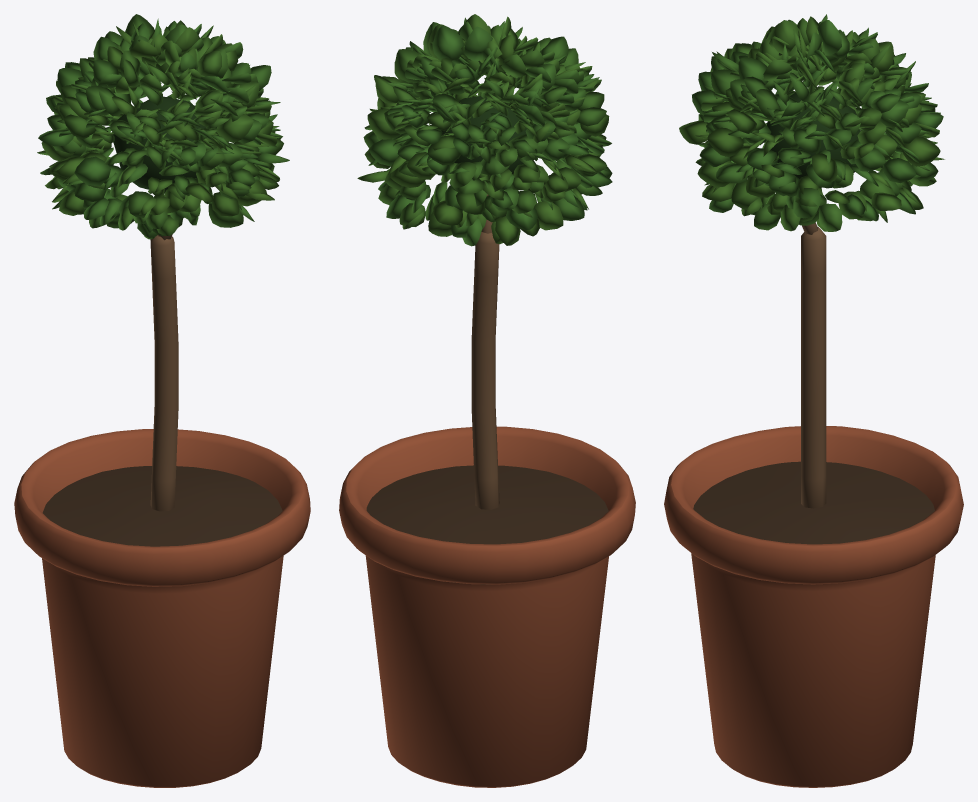
The model's file is pot_boxball.glb.
3 renders of one model, left to right at view 1: azimuth 30°, elevation 25°; view 2: azimuth 150°, elevation 25°; view 3: azimuth 270°, elevation 25°, orthographic.
Visible parts, largest first — view 1: Sammel Putz, Sammel Pflanze, Sammel Holz, Sammel Blatt; view 2: Sammel Putz, Sammel Pflanze, Sammel Holz, Sammel Blatt; view 3: Sammel Putz, Sammel Pflanze, Sammel Holz, Sammel Blatt.
Boxes of the visible parts, bbox=[...] form: Sammel Putz: bbox=[14, 429, 310, 787]; Sammel Pflanze: bbox=[37, 14, 289, 239]; Sammel Holz: bbox=[150, 234, 178, 511]; Sammel Blatt: bbox=[112, 96, 209, 193]; Sammel Putz: bbox=[339, 426, 635, 787]; Sammel Pflanze: bbox=[357, 14, 612, 246]; Sammel Holz: bbox=[471, 194, 499, 509]; Sammel Blatt: bbox=[441, 96, 533, 176]; Sammel Putz: bbox=[664, 426, 963, 787]; Sammel Pflanze: bbox=[679, 14, 944, 231]; Sammel Holz: bbox=[801, 222, 826, 508]; Sammel Blatt: bbox=[764, 92, 860, 187].
Size of the model in its own units: 0.4787 by 1.29 by 0.4788.
